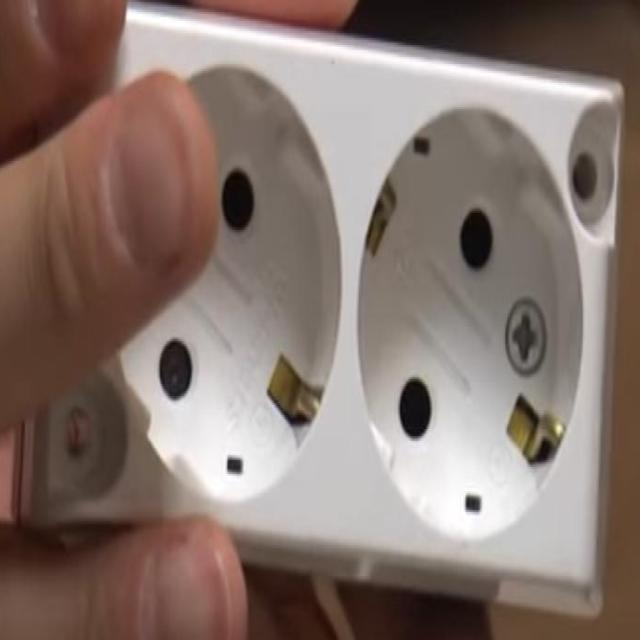hidden camera: (162, 340, 192, 398)
